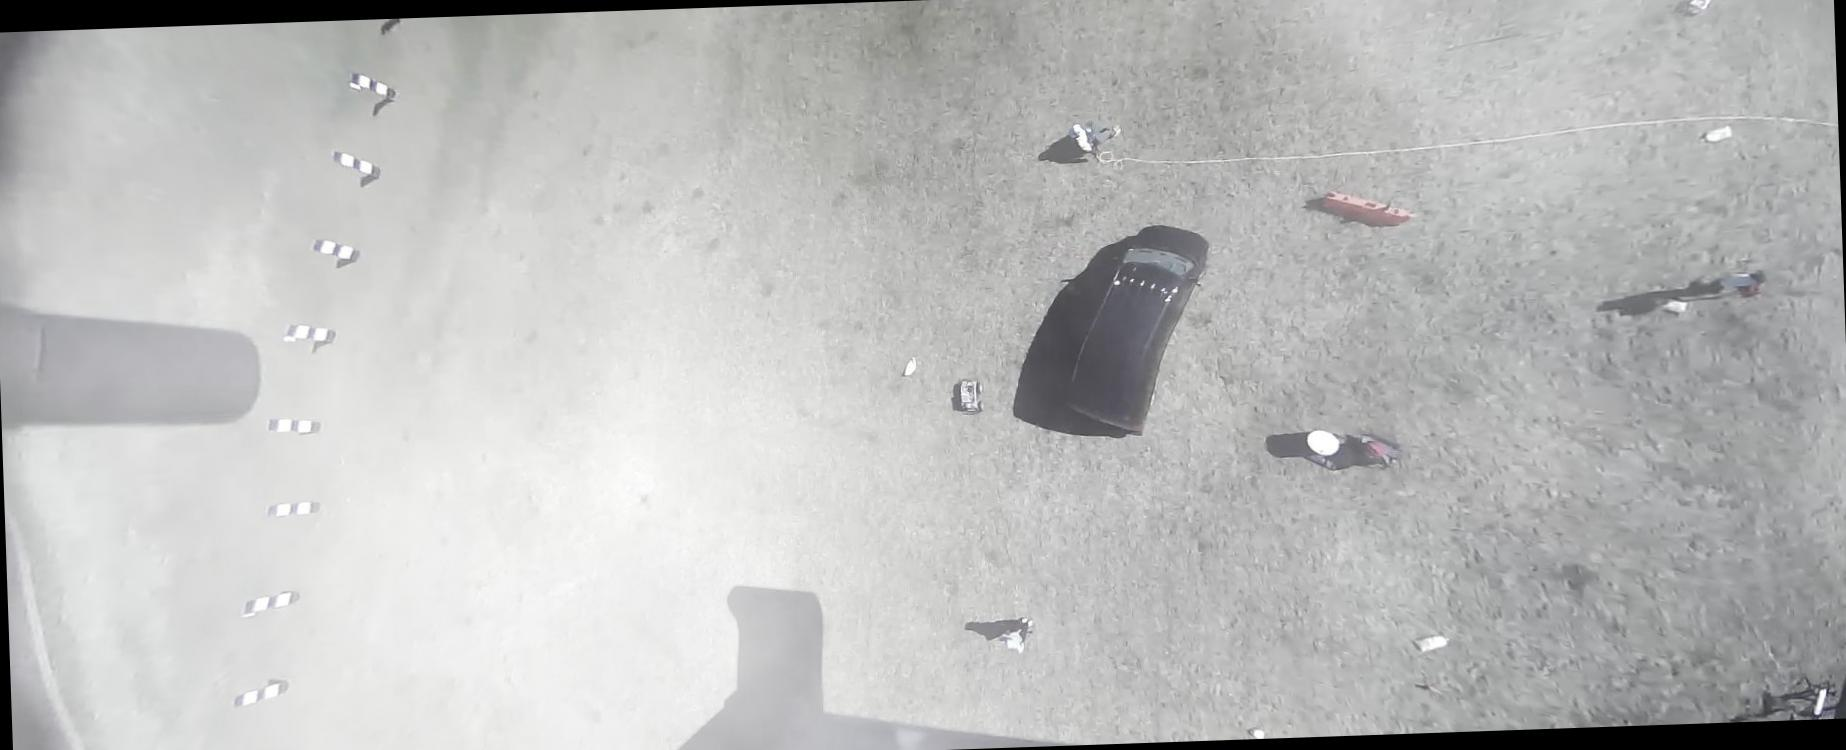vehicle: (1060, 223, 1215, 434)
